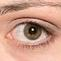eye: (24, 24, 41, 40)
